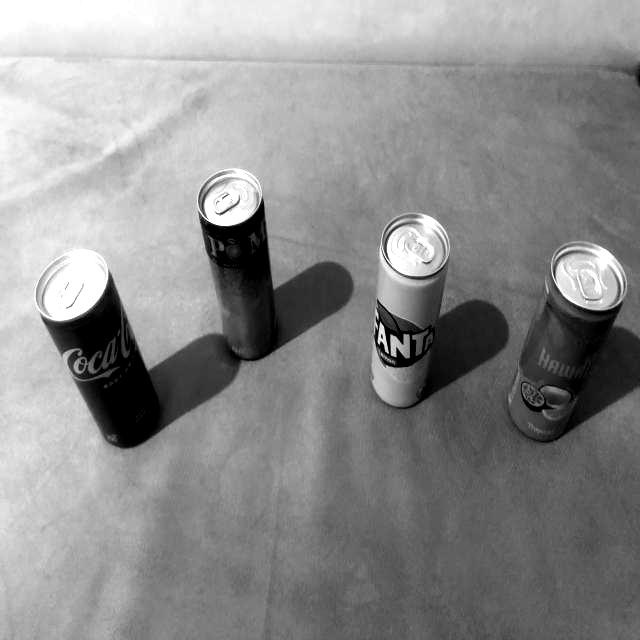metal: (19, 246, 181, 462), (500, 224, 630, 466), (366, 188, 455, 424), (197, 148, 292, 366)
